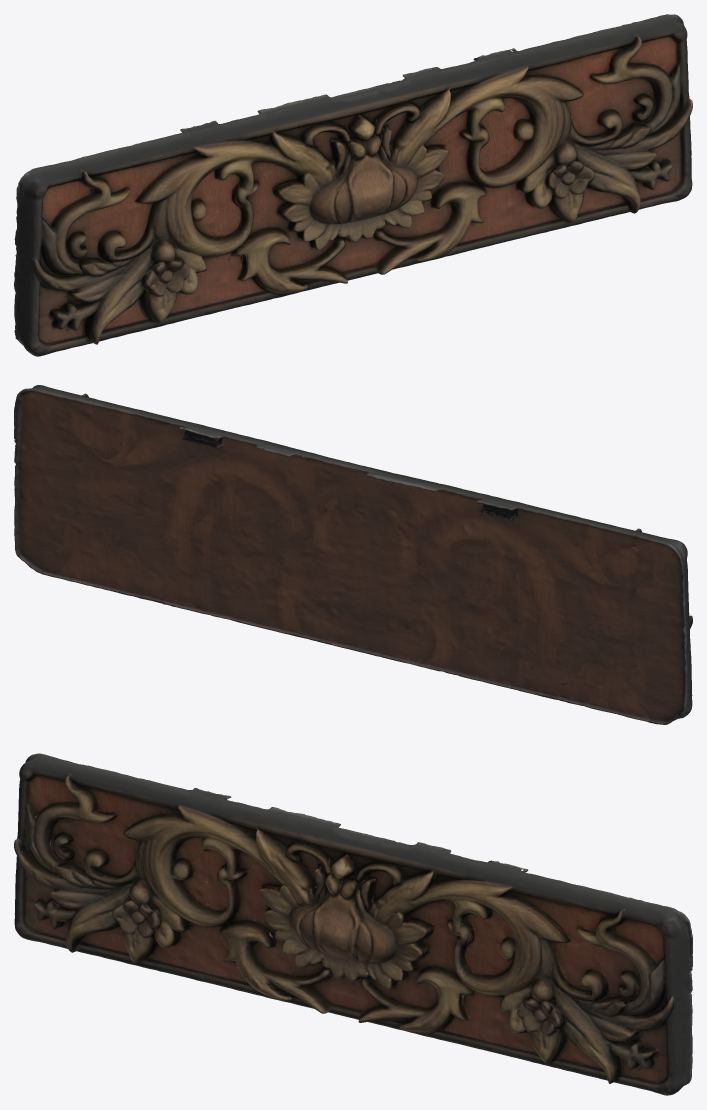
Rendered from flora.glb.
3 views of the same model, one above another, from view 1: azimuth 30°, elevation 25°; view 2: azimuth 150°, elevation 25°; view 3: azimuth 330°, elevation 25° (orthographic).
Bounding box in the file's own units: 1.9 × 0.4972 × 0.1442.
1 material, 1 textured.
